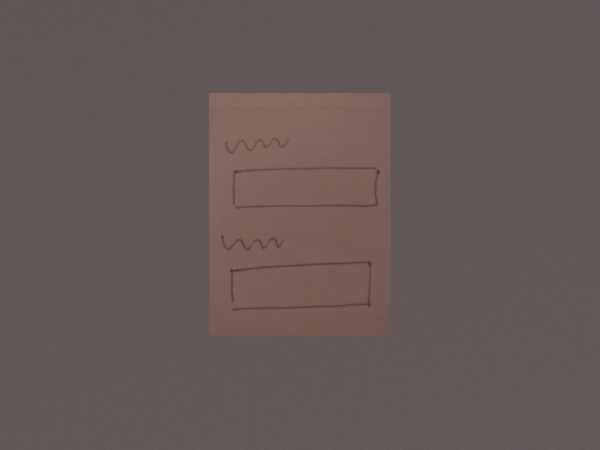text: (222, 130, 294, 159), (216, 230, 288, 256)
text_input: (224, 258, 381, 315), (227, 163, 385, 213)
